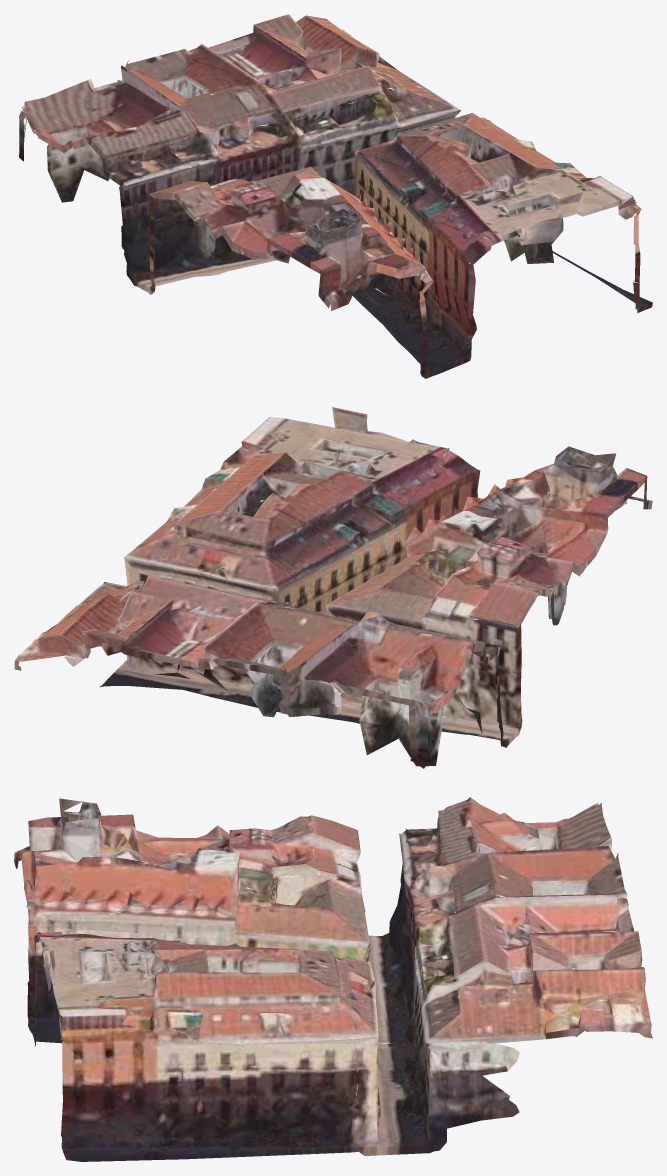
3 renders of one model, top to bottom at view 1: azimuth 30°, elevation 25°; view 2: azimuth 150°, elevation 25°; view 3: azimuth 270°, elevation 25°, orthographic. The views are drawn at different scales.
Parts seen in each view (by area): view 1: Mesh_0; view 2: Mesh_0; view 3: Mesh_0.
Part boxes in pixels (left/top/right/bottom): Mesh_0: left=19, top=14, right=652, bottom=378; Mesh_0: left=14, top=407, right=652, bottom=768; Mesh_0: left=14, top=797, right=652, bottom=1161.
Bounding box in the file's own units: 67.5 × 27.21 × 82.59.
Materials: 2 (2 with a texture image).
